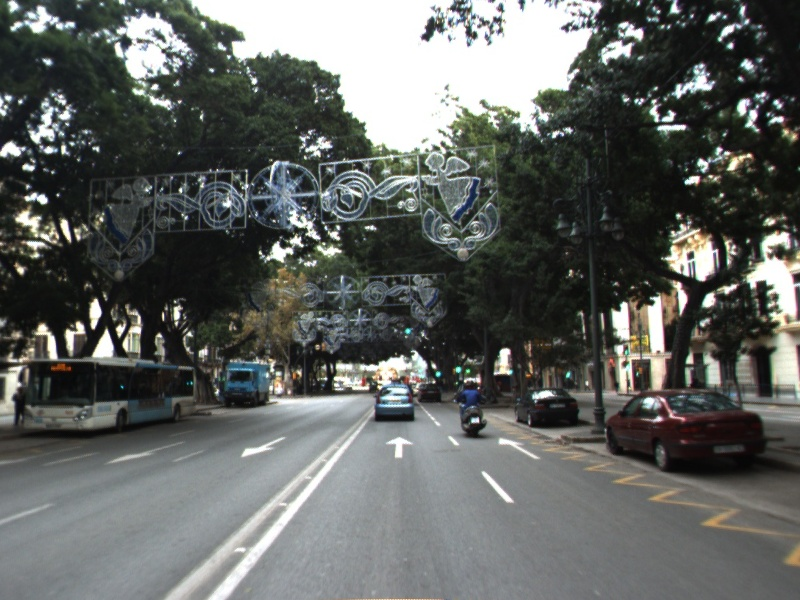STRAIGHT: (497, 435, 542, 461), (384, 434, 415, 459)
